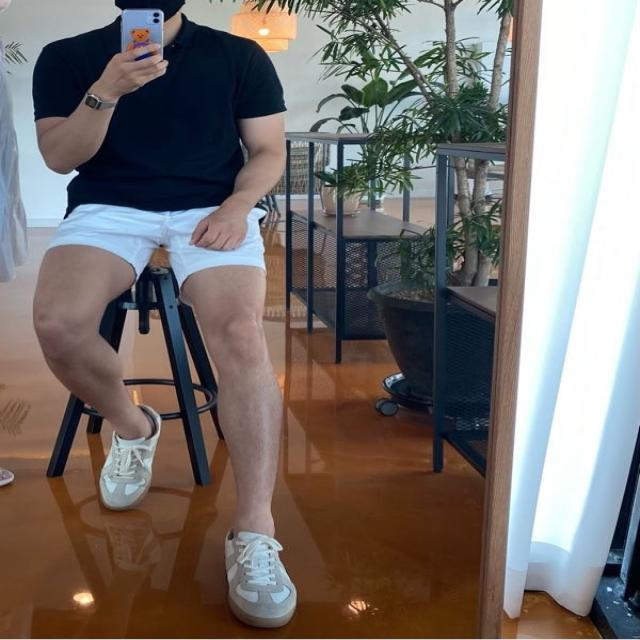shortpants: (44, 204, 264, 312)
shortsleeve: (32, 8, 284, 214)
